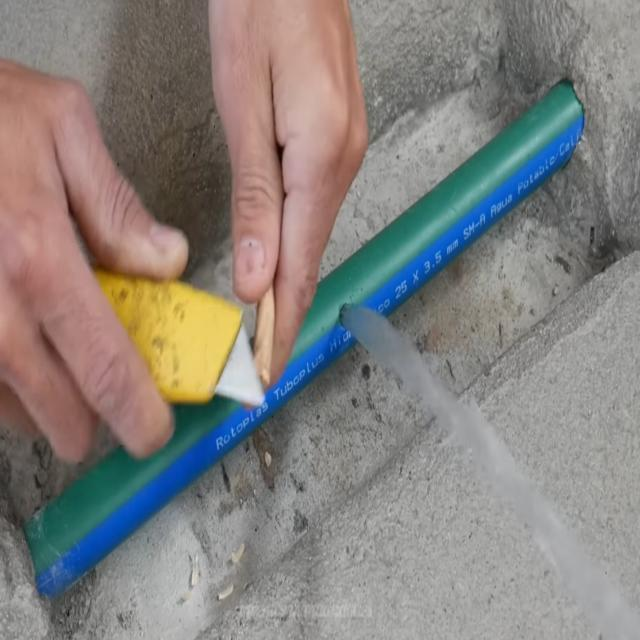leak: (340, 304, 640, 638)
